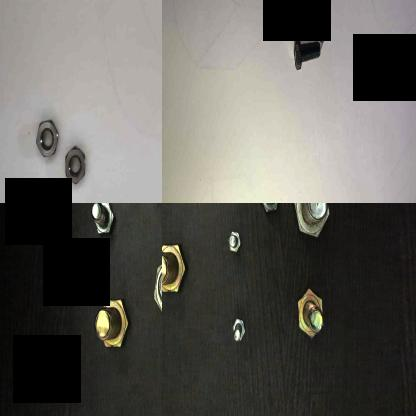Bolts: (93, 290, 130, 358), (293, 276, 327, 342), (162, 233, 190, 302), (290, 203, 332, 242), (297, 2, 327, 44), (89, 203, 118, 243), (292, 40, 322, 71), (150, 250, 162, 326), (226, 308, 247, 350), (225, 219, 243, 262), (258, 203, 279, 215)
NUTS: (62, 143, 89, 187), (35, 113, 58, 163)
